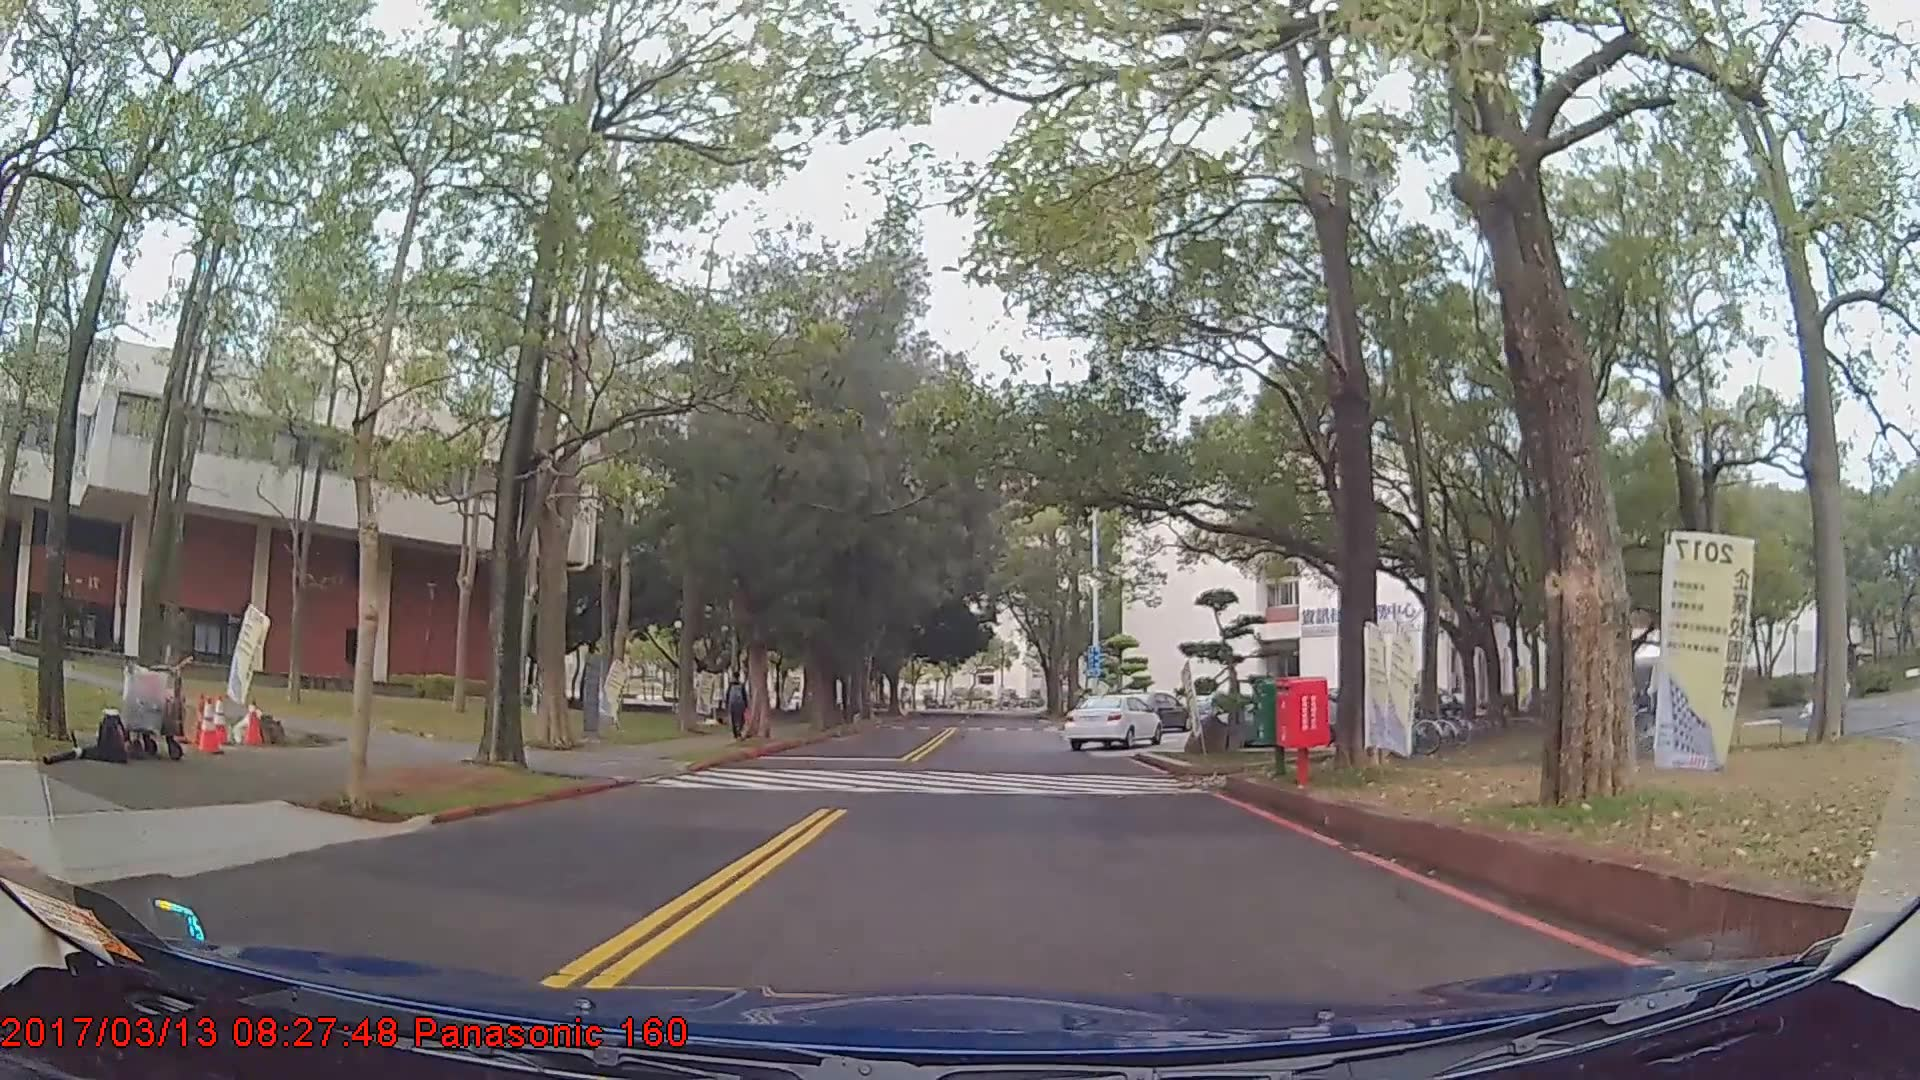pedestrian: (725, 673, 752, 740)
vehicle: (1062, 695, 1161, 752), (1121, 690, 1194, 731)
